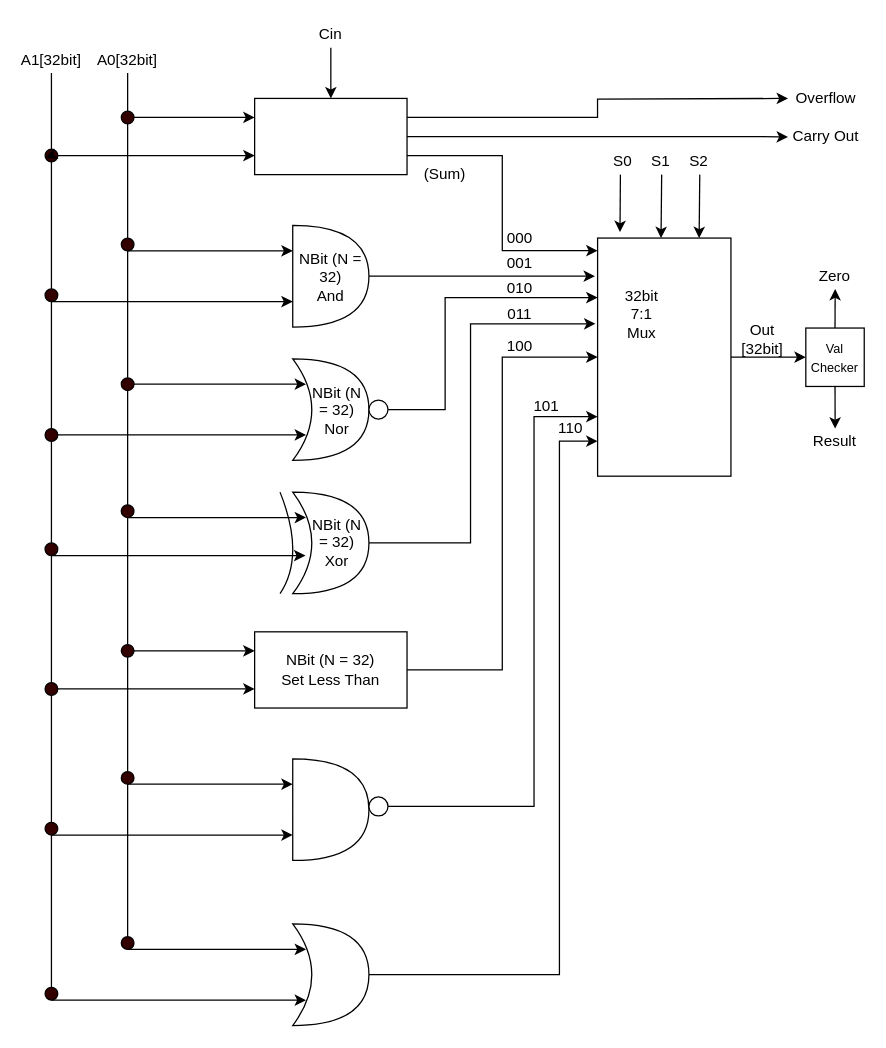
Image size: 886x1048. Some labels were removed from this diagram. Here are the shapes that lost their labels. From the top down, the box of each, then its label:
(253, 97, 407, 175): NBit (N = 32) Full Adder
(291, 758, 369, 860): NBit (N = 32) Nand
(291, 923, 369, 1026): NBit (N = 32) Or
